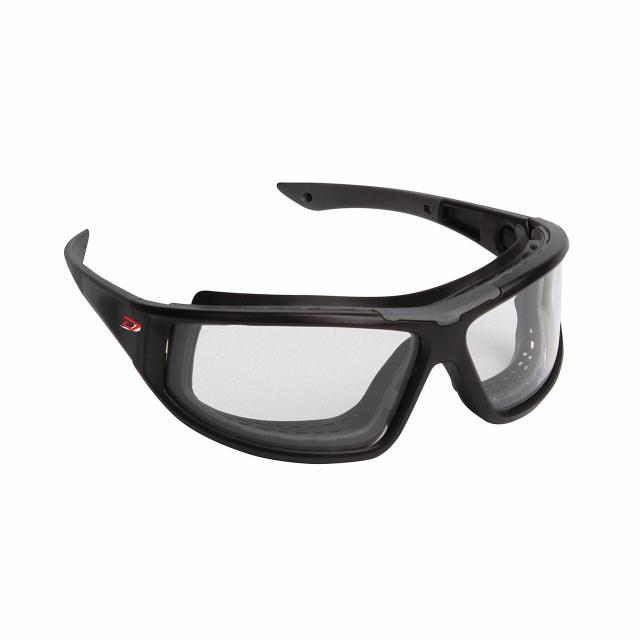goggles: (54, 171, 581, 474)
